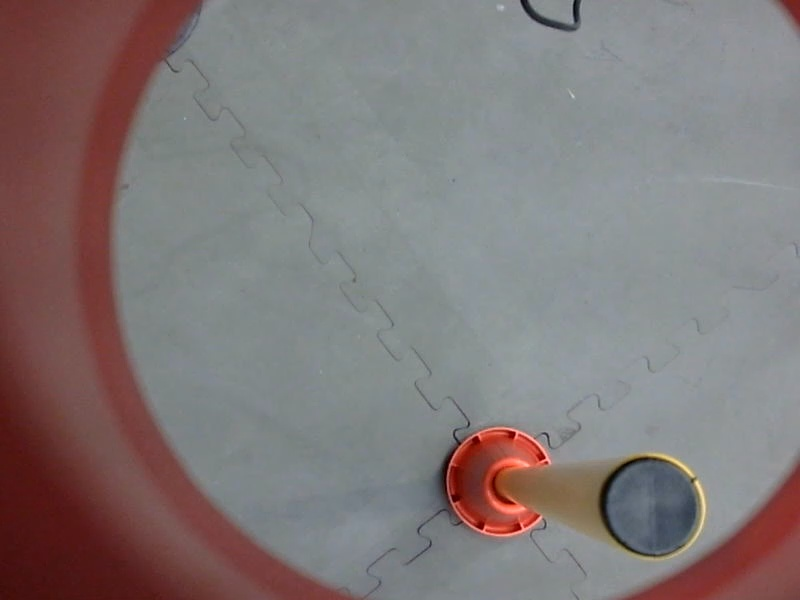tip: (592, 444, 712, 564)
